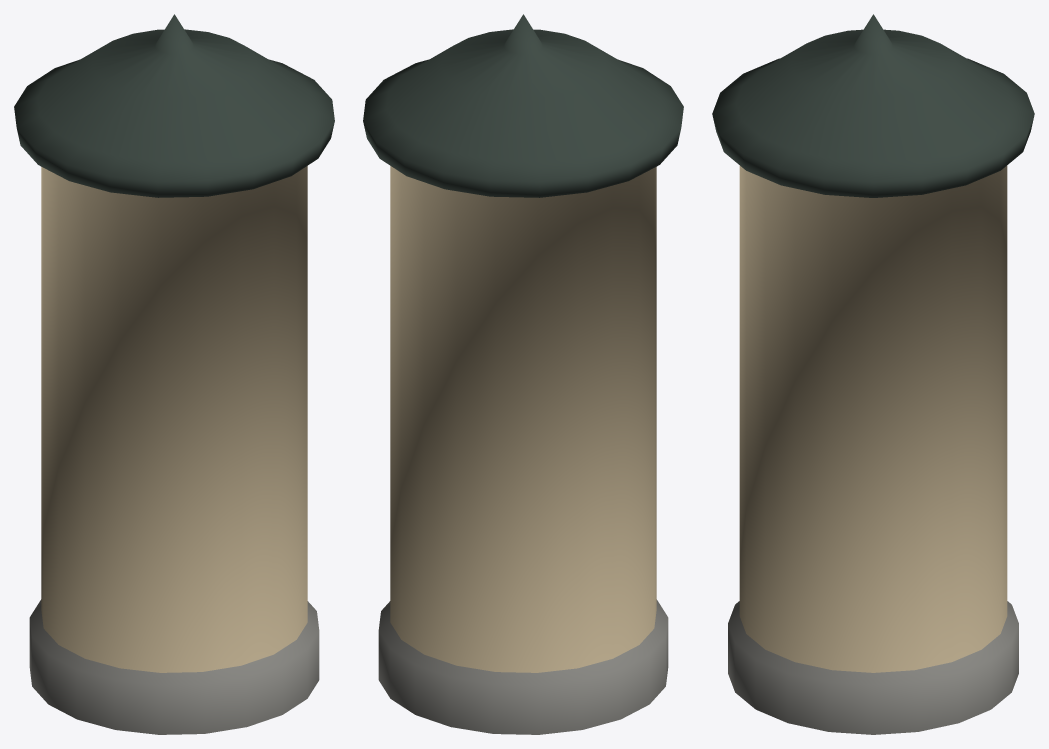
Rendered from SM_litfass.glb.
3 views of the same model, side by side, from view 1: azimuth 30°, elevation 25°; view 2: azimuth 150°, elevation 25°; view 3: azimuth 270°, elevation 25° (orthographic).
Parts seen in each view (by area): view 1: SM_litfass; view 2: SM_litfass; view 3: SM_litfass.
Boxes of the visible parts, x1=… form: SM_litfass: x1=14, y1=14, x2=334, y2=734; SM_litfass: x1=363, y1=14, x2=683, y2=734; SM_litfass: x1=712, y1=14, x2=1034, y2=734.
Bounding box in the file's own units: 1.64 × 3.7 × 1.64.
